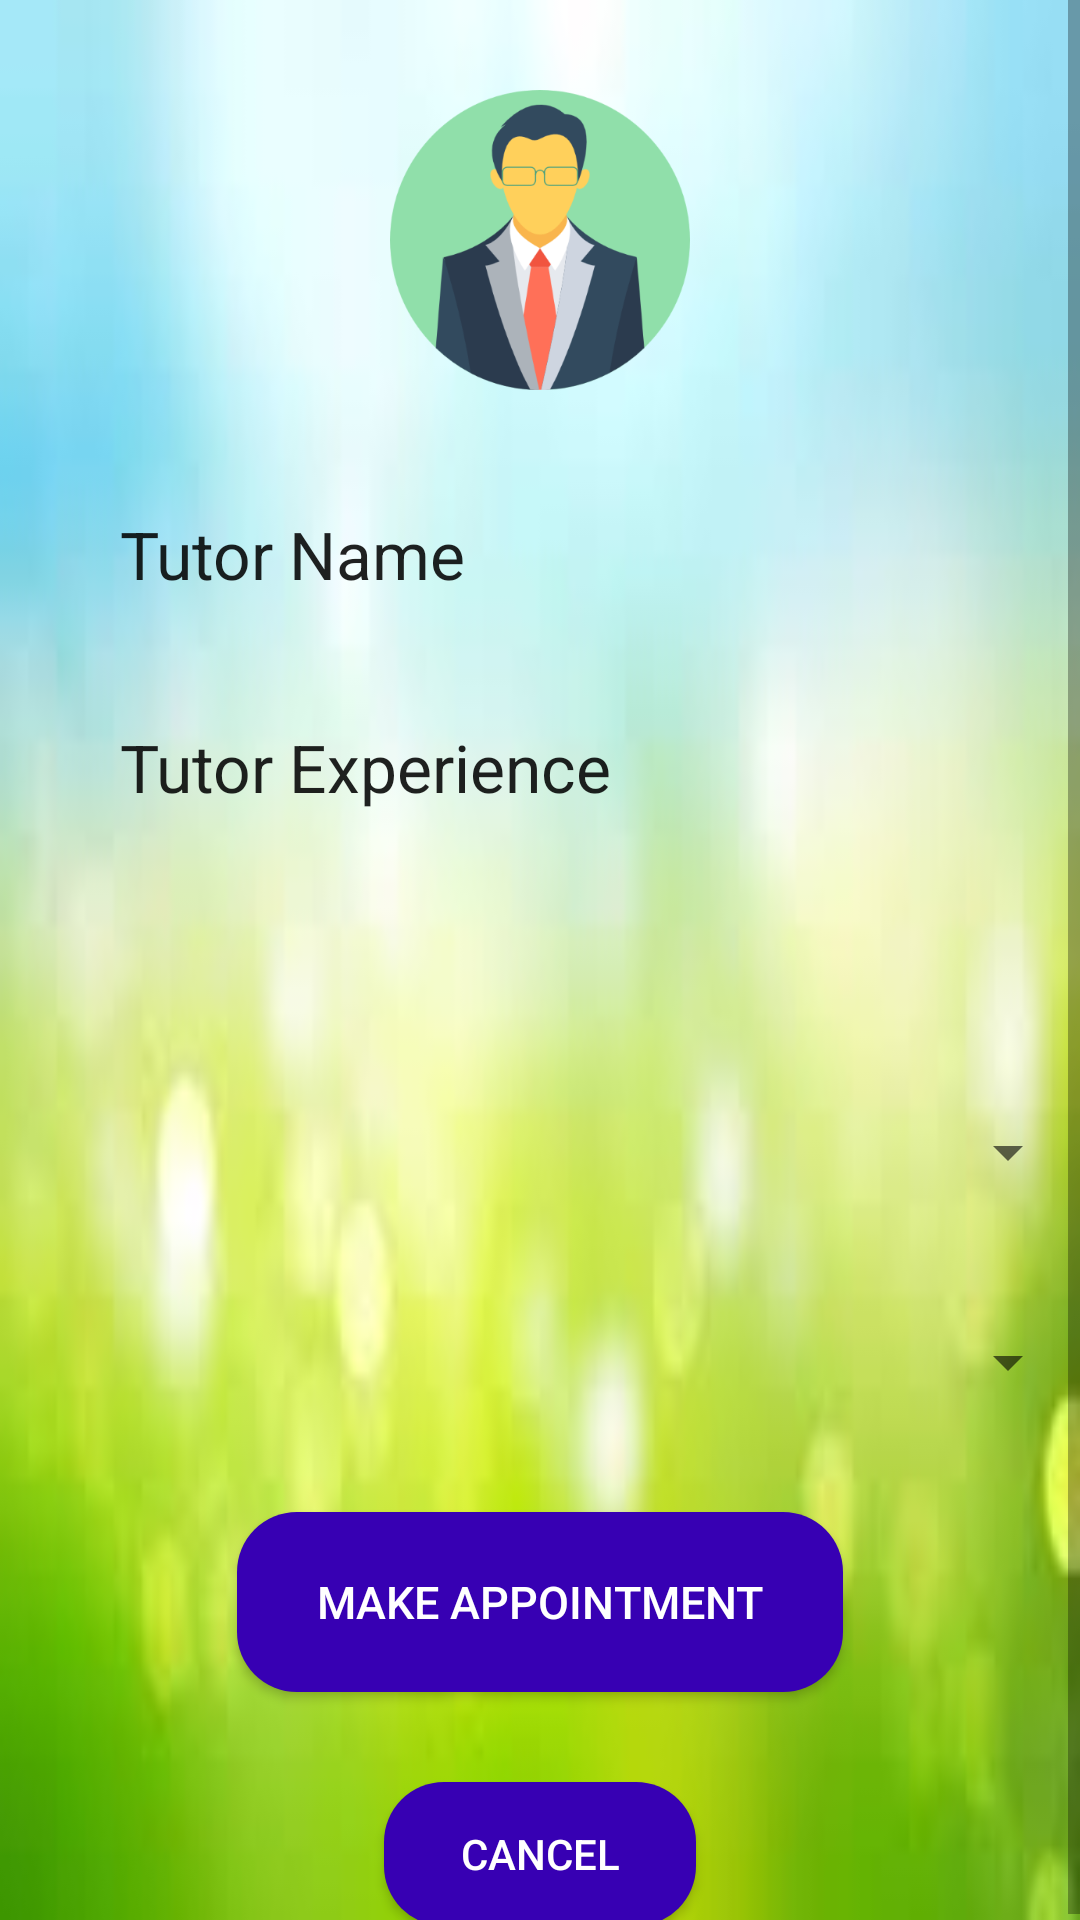

Screen size 1080 × 1920. Icon name, then its box in pixels as detection(x1, y1, x2, y2):
teacher: detection(390, 90, 720, 420)
